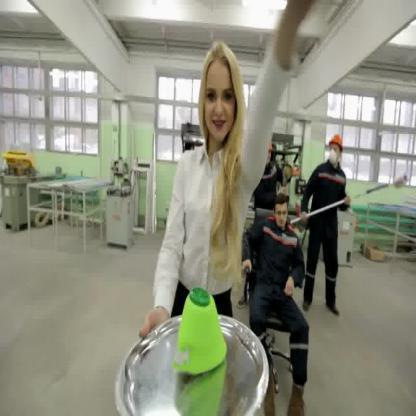helmet: (327, 132, 344, 146)
mask: (169, 284, 229, 384), (327, 147, 339, 168)
vest: (241, 218, 311, 388), (304, 161, 350, 304), (248, 159, 288, 214)
